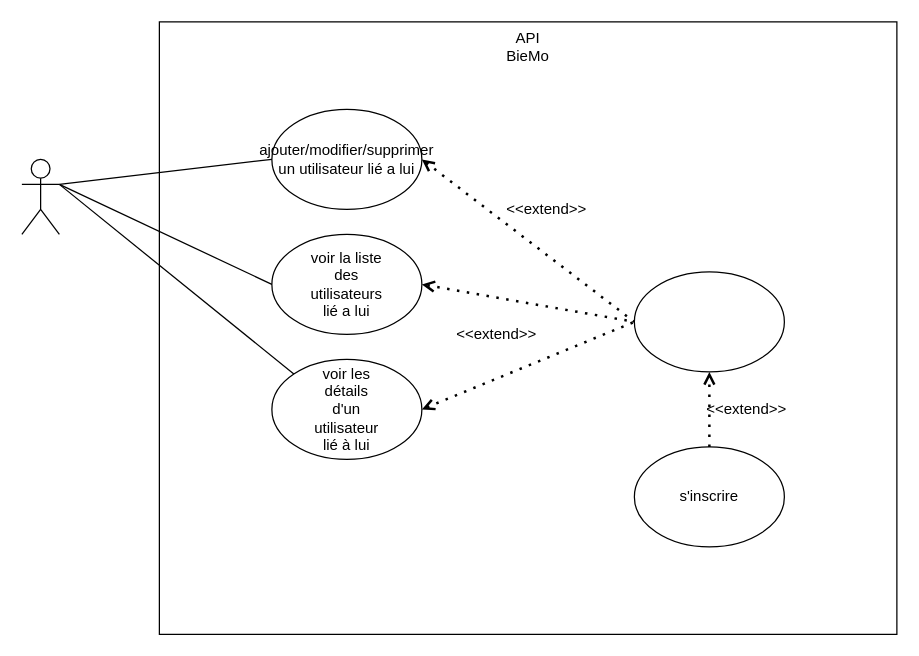
This 919x656 diagram has some shape labels left out. The centre of each missing label's shape, as x and y in pixels:
"Client" goes at point 40,196.
"s'authentifier" goes at point 708,321.
